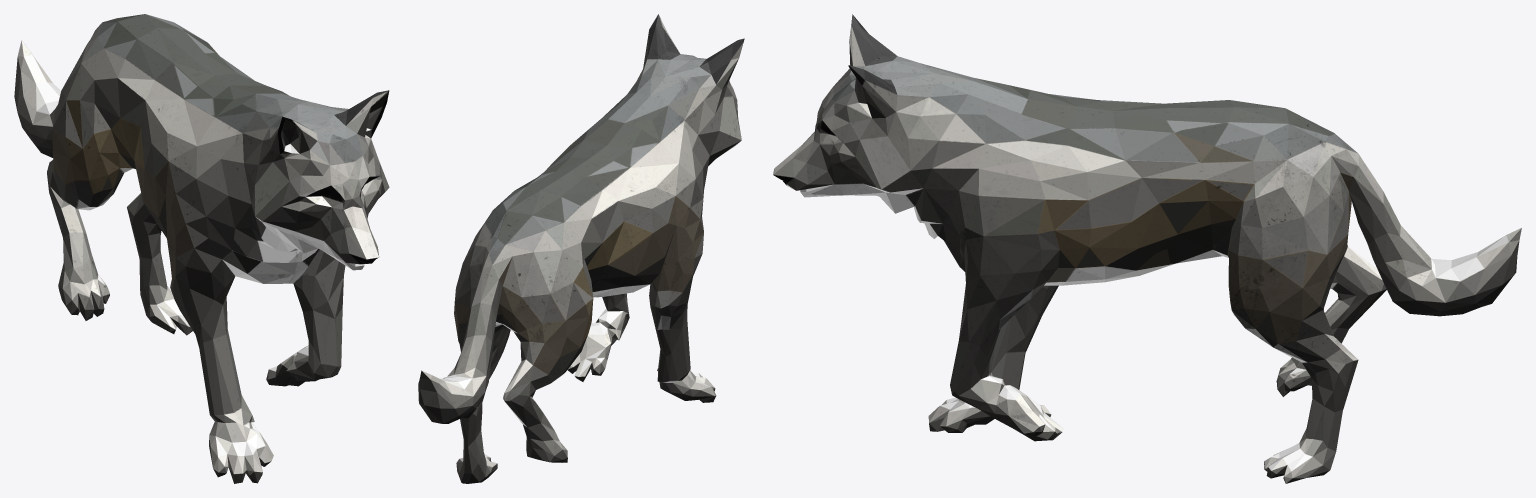
The model's file is snow-wolf.glb.
3 views of the same model, side by side, from view 1: azimuth 30°, elevation 25°; view 2: azimuth 150°, elevation 25°; view 3: azimuth 270°, elevation 25° (orthographic). The views are drawn at different scales.
Parts seen in each view (by area): view 1: grey_wolf2.1_1; view 2: grey_wolf2.1_1; view 3: grey_wolf2.1_1.
Boxes of the visible parts, x1,y1,x2,y2 form: grey_wolf2.1_1: [14, 14, 389, 483]; grey_wolf2.1_1: [418, 14, 744, 483]; grey_wolf2.1_1: [773, 14, 1521, 483].
Bounding box in the file's own units: 0.5891 × 1.44 × 2.37.
Materials: 1 (1 with a texture image).
